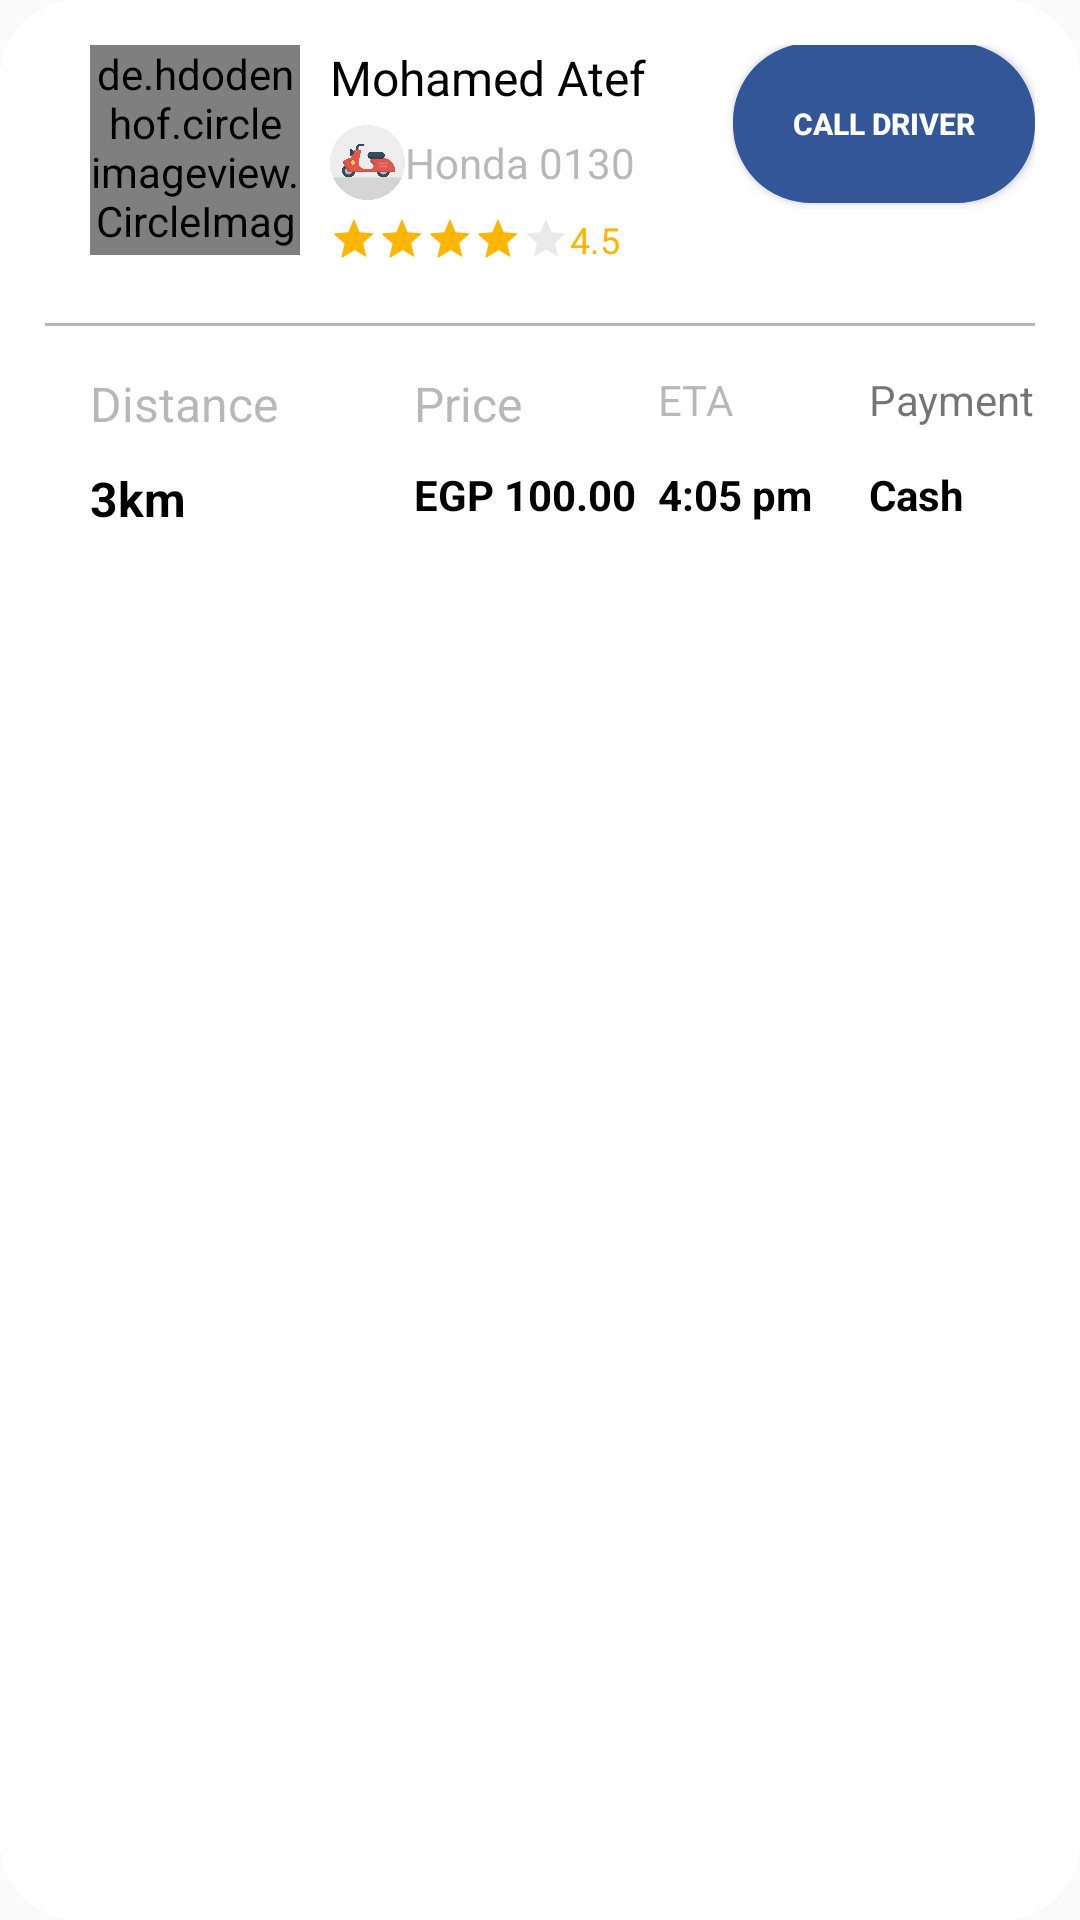

Icon click points for this 1080px x 1920px phone screenshot, format point (x, y):
motorbike: point (367, 172)
